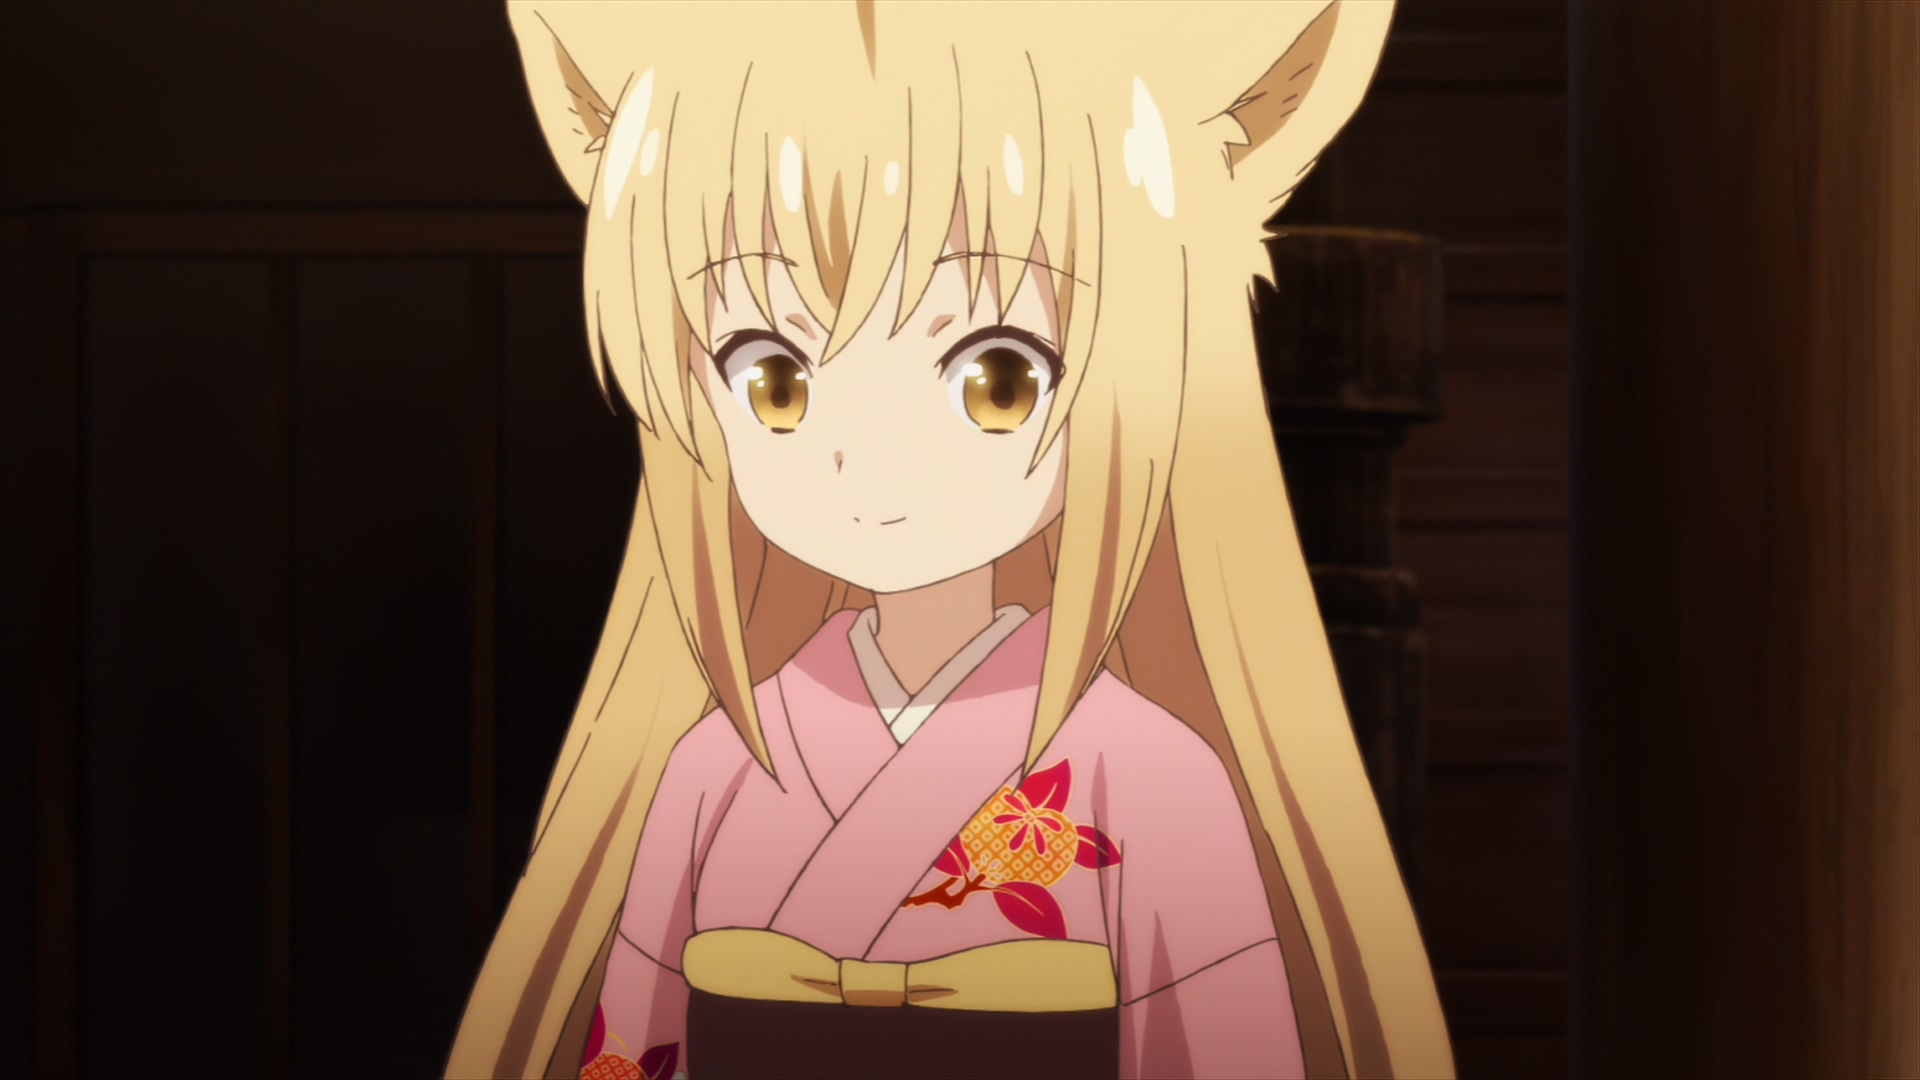柚: (444, 1, 1455, 1080)
